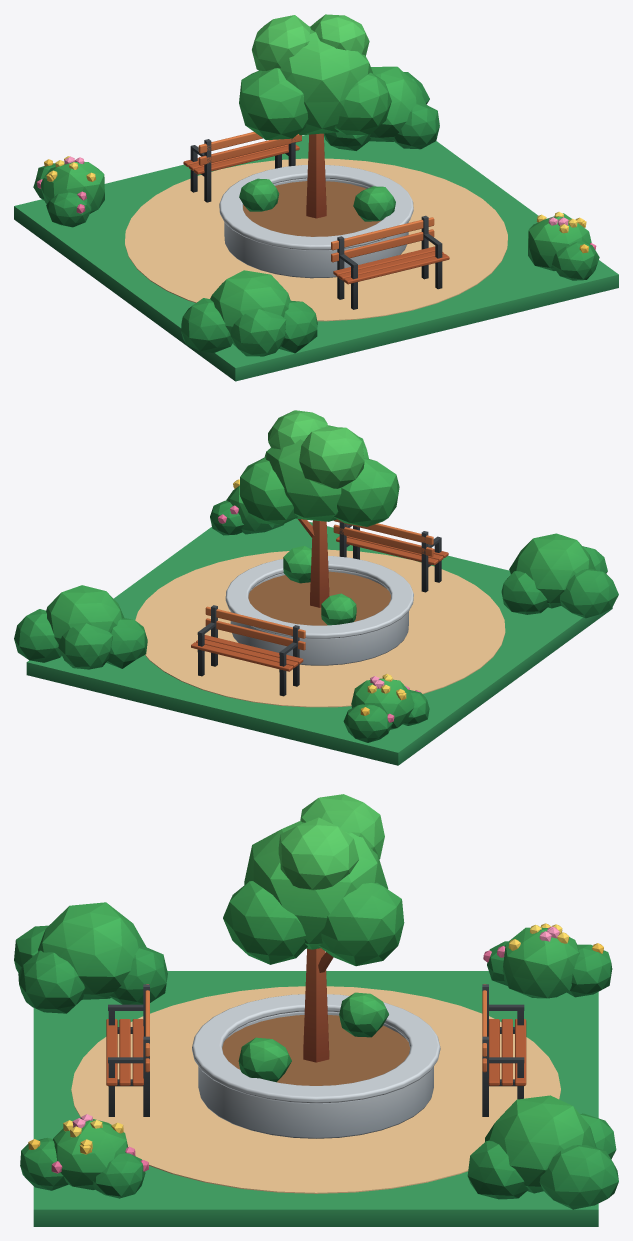
Rendered from plaza_cantero.glb.
3 renders of one model, top to bottom at view 1: azimuth 30°, elevation 25°; view 2: azimuth 150°, elevation 25°; view 3: azimuth 270°, elevation 25°, orthographic. The views are drawn at different scales.
Parts seen in each view (by area): view 1: plaza_cantero; view 2: plaza_cantero; view 3: plaza_cantero.
Part boxes in pixels (<box>): plaza_cantero: <box>14,14,618,381</box>; plaza_cantero: <box>14,410,618,765</box>; plaza_cantero: <box>14,794,618,1226</box>.
Size of the model in its own units: 6.68 by 3.46 by 6.42.
Materials: 1 (1 with a texture image).
